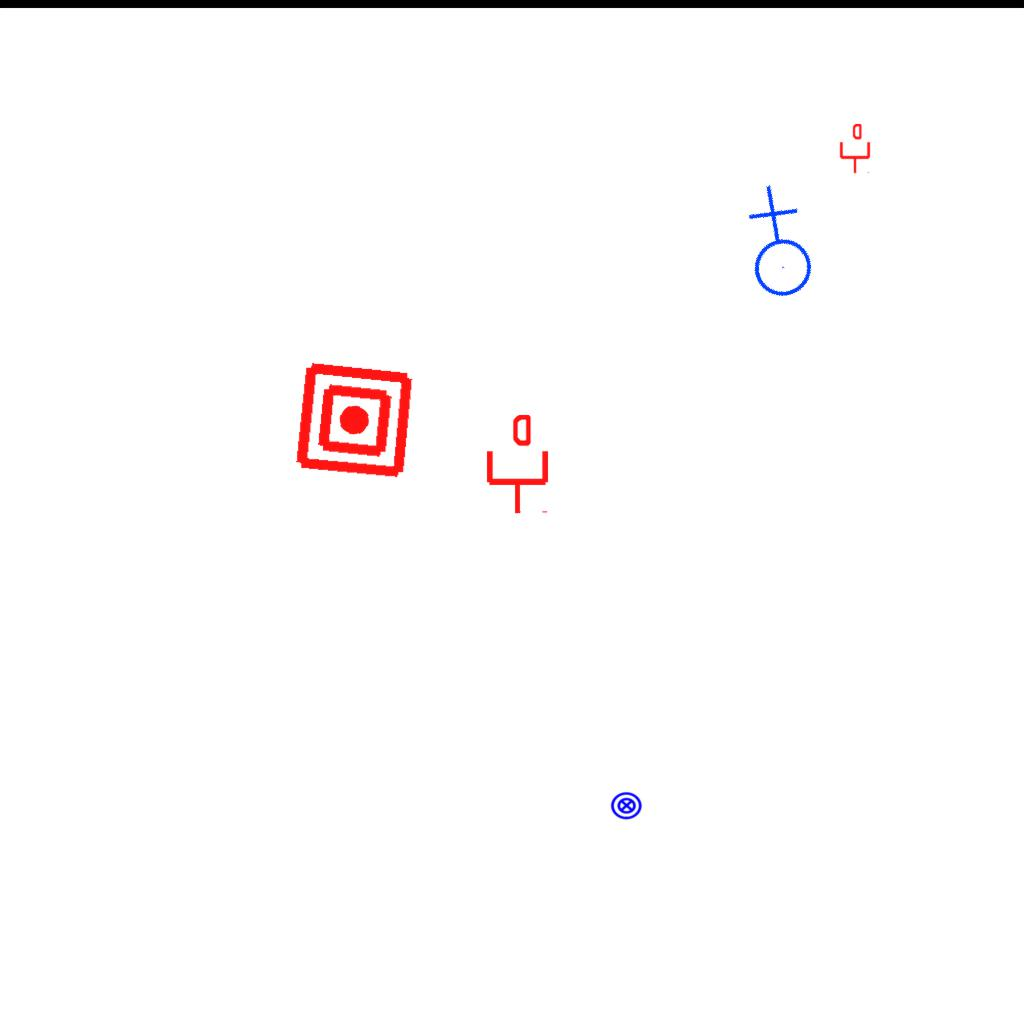Datenanschluss_einfach: (483, 415, 552, 515), (838, 124, 872, 174)
Elektroanschluss_allgemein_230V_Geraeteanschlussdose_230V: (708, 180, 843, 316)
NAM-Nichtautomatischer_Melder: (292, 358, 417, 483)
Taster_beleuchtet: (610, 789, 643, 822)
